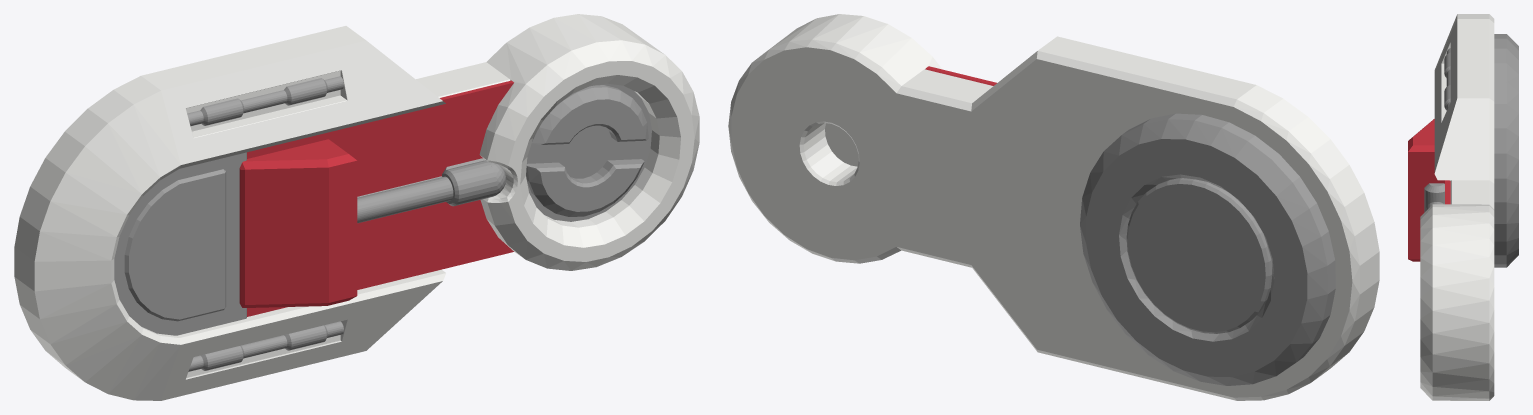
The model's file is up_leg_r_m.dae.
The picture shows the model from 3 angles, left to right: view 1: azimuth 30°, elevation 25°; view 2: azimuth 150°, elevation 25°; view 3: azimuth 270°, elevation 25°; orthographic projection. The views are drawn at different scales.
Parts seen in each view (by area): view 1: SketchUp (×13); view 2: SketchUp (×4); view 3: SketchUp (×6).
Boxes of the visible parts, x1=… form: SketchUp (×13): x1=14, y1=14, x2=699, y2=400; SketchUp (×4): x1=728, y1=14, x2=1379, y2=400; SketchUp (×6): x1=1408, y1=14, x2=1518, y2=400.
Bounding box in the file's own units: 9.49 × 1.77 × 4.33.
